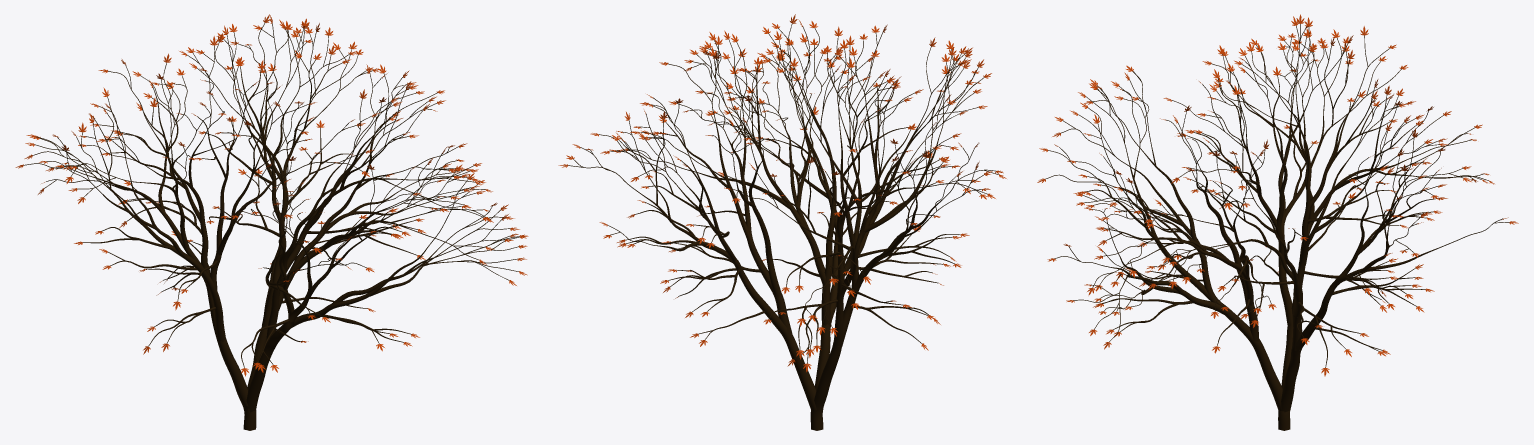
Rendered from maple.fbx.
The picture shows the model from 3 angles, left to right: view 1: azimuth 30°, elevation 25°; view 2: azimuth 150°, elevation 25°; view 3: azimuth 270°, elevation 25°; orthographic projection.
Visible parts, largest first — view 1: maple; view 2: maple; view 3: maple.
Boxes of the visible parts, <box> form: maple: <box>15,14,528,430</box>; maple: <box>558,14,1006,430</box>; maple: <box>1037,14,1518,430</box>.
Bounding box in the file's own units: 241 × 231 × 204.
